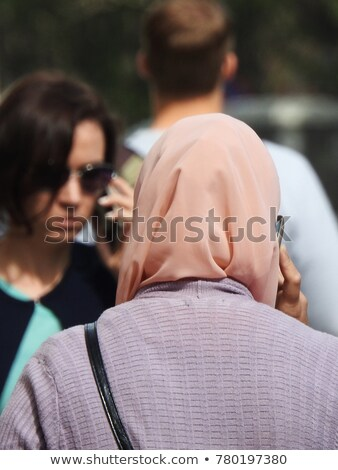phone: (262, 210, 300, 306)
